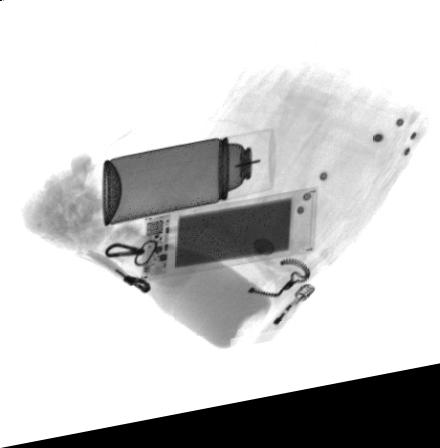Lighter: (265, 296, 315, 344)
Powerbank: (141, 198, 318, 289)
Sprayer: (101, 140, 275, 230)
